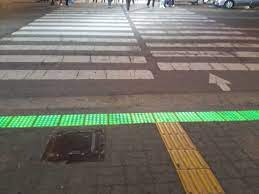guide_blocks: (1, 109, 259, 126), (160, 126, 221, 193)
